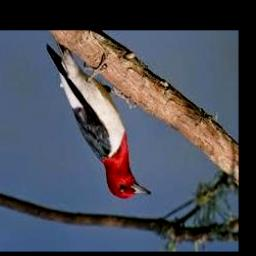Woodpecker: (46, 37, 151, 200)
